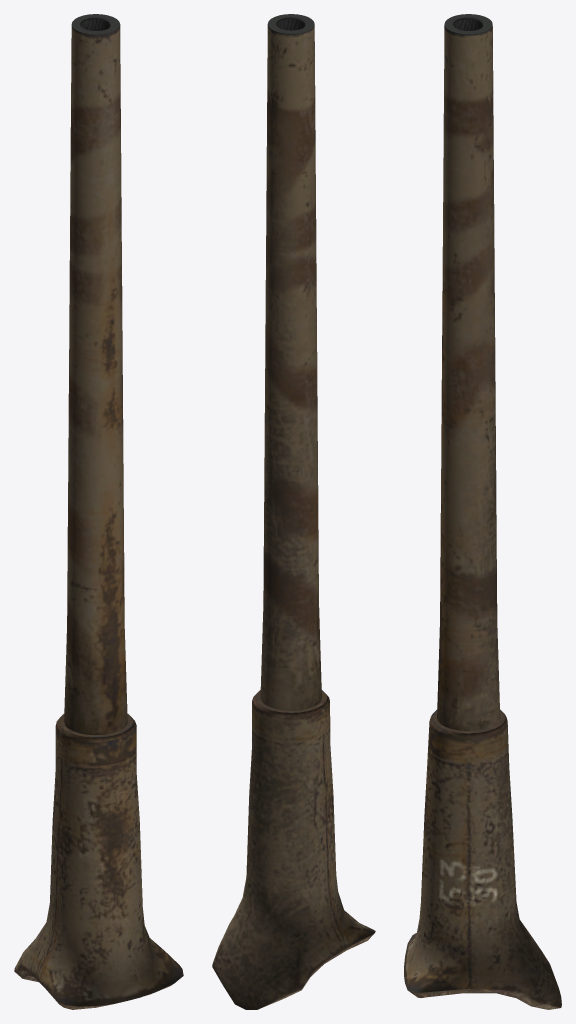
The model's file is Gun_09.glb.
3 renders of one model, left to right at view 1: azimuth 30°, elevation 25°; view 2: azimuth 150°, elevation 25°; view 3: azimuth 270°, elevation 25°, orthographic. The views are drawn at different scales.
Visible parts, largest first — view 1: set_0_group_0; view 2: set_0_group_0; view 3: set_0_group_0.
Part boxes in pixels (bbox=[...]): set_0_group_0: bbox=[14, 14, 183, 1009]; set_0_group_0: bbox=[212, 14, 375, 1009]; set_0_group_0: bbox=[404, 14, 561, 1009].
Size of the model in its own units: 0.6214 by 4.65 by 0.6765.
Materials: 1 (1 with a texture image).
